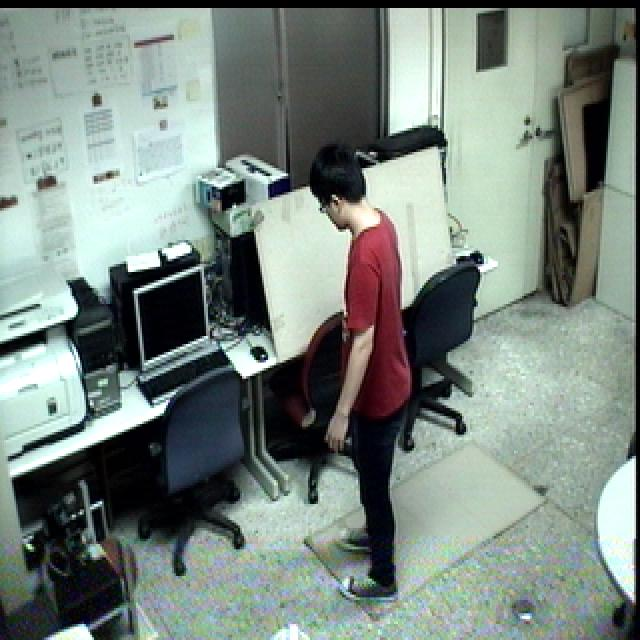stand: (291, 131, 425, 615)
